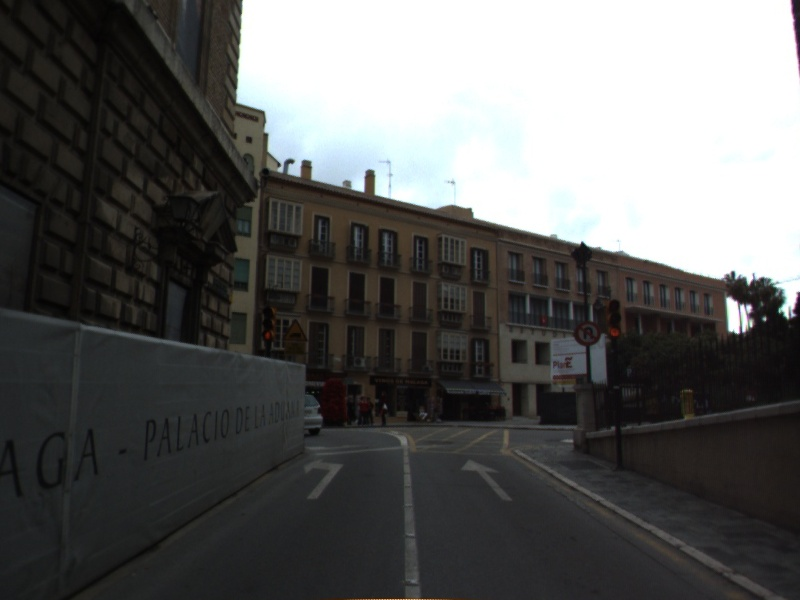LEFT: (302, 456, 346, 501)
STRAIGHT: (459, 457, 514, 502)
